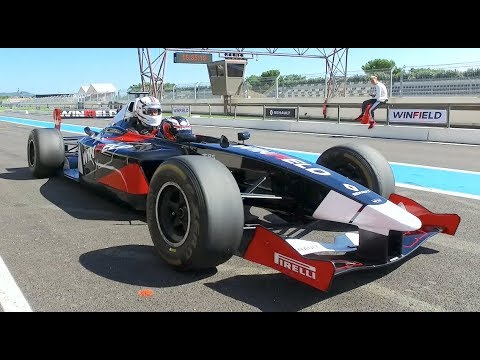Formule 1: (27, 97, 460, 293)
